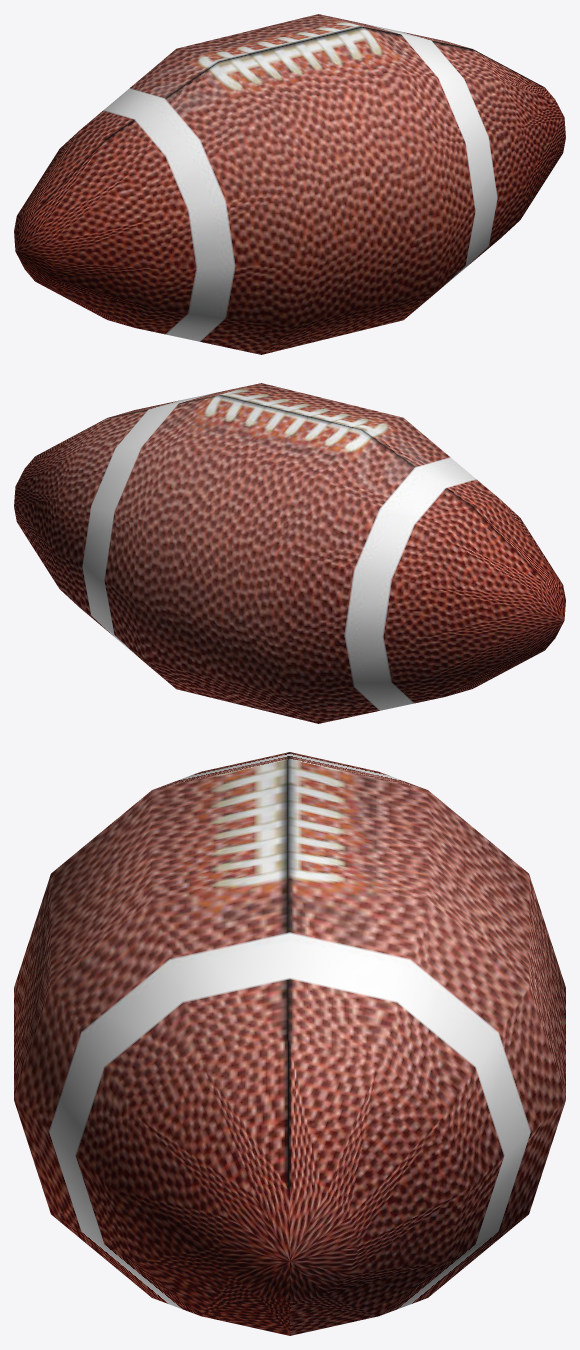
File: ball_rugby.fbx
3 renders of one model, top to bottom at view 1: azimuth 30°, elevation 25°; view 2: azimuth 150°, elevation 25°; view 3: azimuth 270°, elevation 25°, orthographic. The views are drawn at different scales.
Parts seen in each view (by area): view 1: ball_rugby; view 2: ball_rugby; view 3: ball_rugby.
Boxes of the visible parts, bbox=[...] form: ball_rugby: bbox=[14, 14, 565, 354]; ball_rugby: bbox=[14, 383, 565, 723]; ball_rugby: bbox=[14, 752, 565, 1335].
Bounding box in the file's own units: 16.59 × 8.13 × 8.91.
